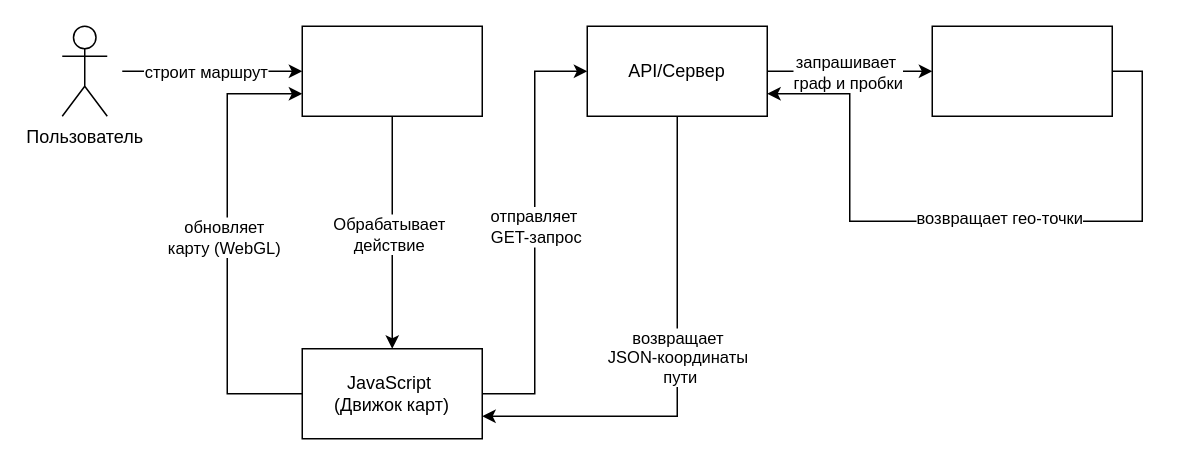
Image size: 1181x465. Some labels were removed from this diagram. The shapes that lost their labels are listed below. From the top down, each one's box as (x1, y1, x2, y2) in pixels, then its label:
(301, 25, 482, 116): Интерфейс поиска/навигации
(931, 25, 1112, 116): Хранилище
